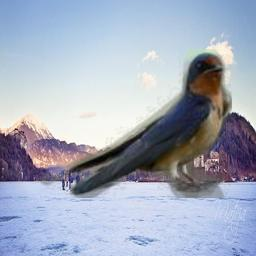Swallow: (39, 49, 232, 198)
